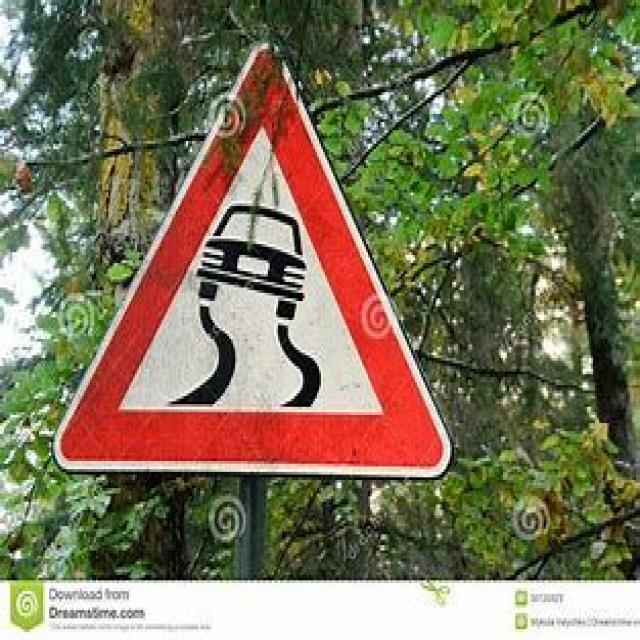SLIPPERY_ROAD: (51, 40, 455, 485)
